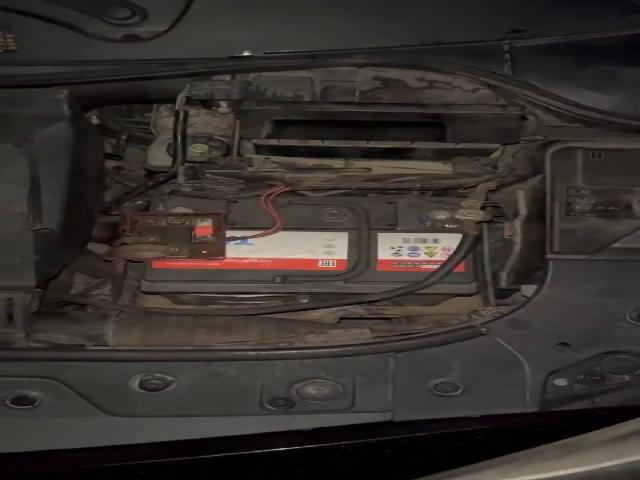accumulator: (113, 195, 478, 308)
fuse_box: (550, 147, 640, 256)
